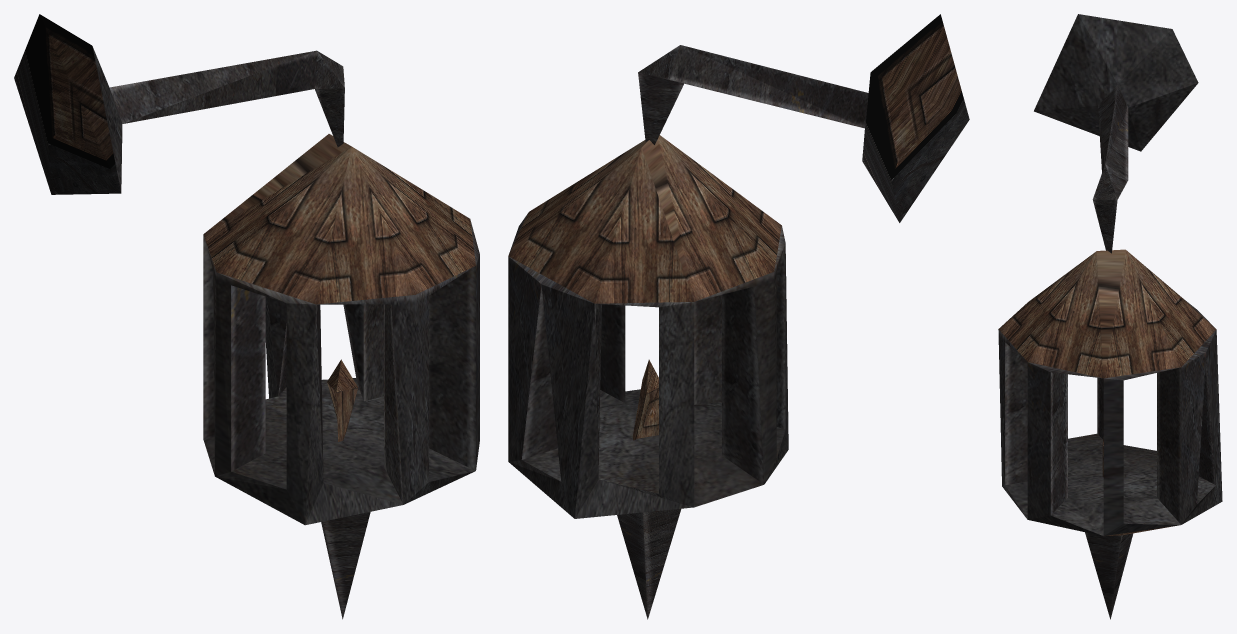
File: v3_lamp2_LOD.dae
3 renders of one model, left to right at view 1: azimuth 30°, elevation 25°; view 2: azimuth 150°, elevation 25°; view 3: azimuth 270°, elevation 25°, orthographic. The views are drawn at different scales.
Parts seen in each view (by area): view 1: Material; view 2: Material; view 3: Material.
Part boxes in pixels (left/top/right/bottom): Material: left=14, top=14, right=479, bottom=619; Material: left=508, top=14, right=969, bottom=619; Material: left=998, top=14, right=1222, bottom=619.
Bounding box in the file's own units: 0.3299 × 0.5242 × 0.2111.
